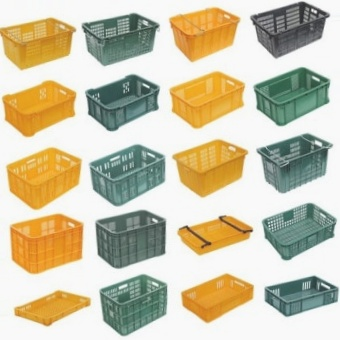plastic: (168, 147, 245, 203), (90, 156, 165, 203), (6, 151, 81, 196)
